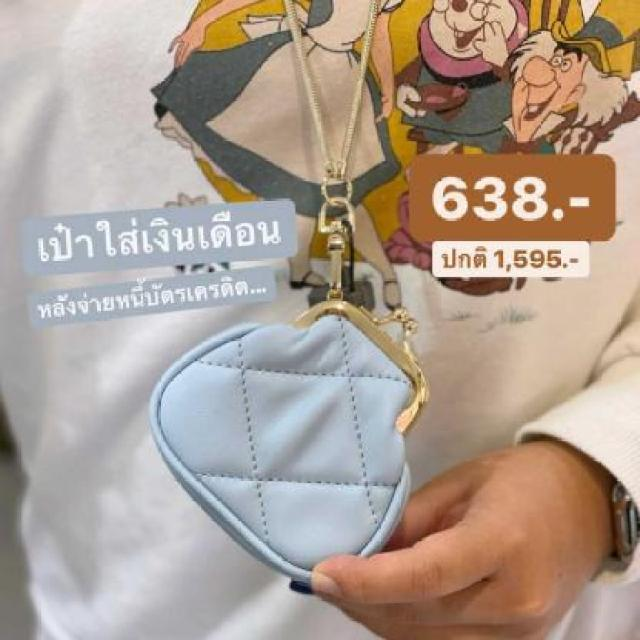Bag: (114, 249, 446, 602)
